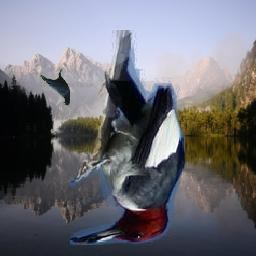Crow: (40, 68, 71, 106)
Woodpecker: (71, 31, 186, 246)
